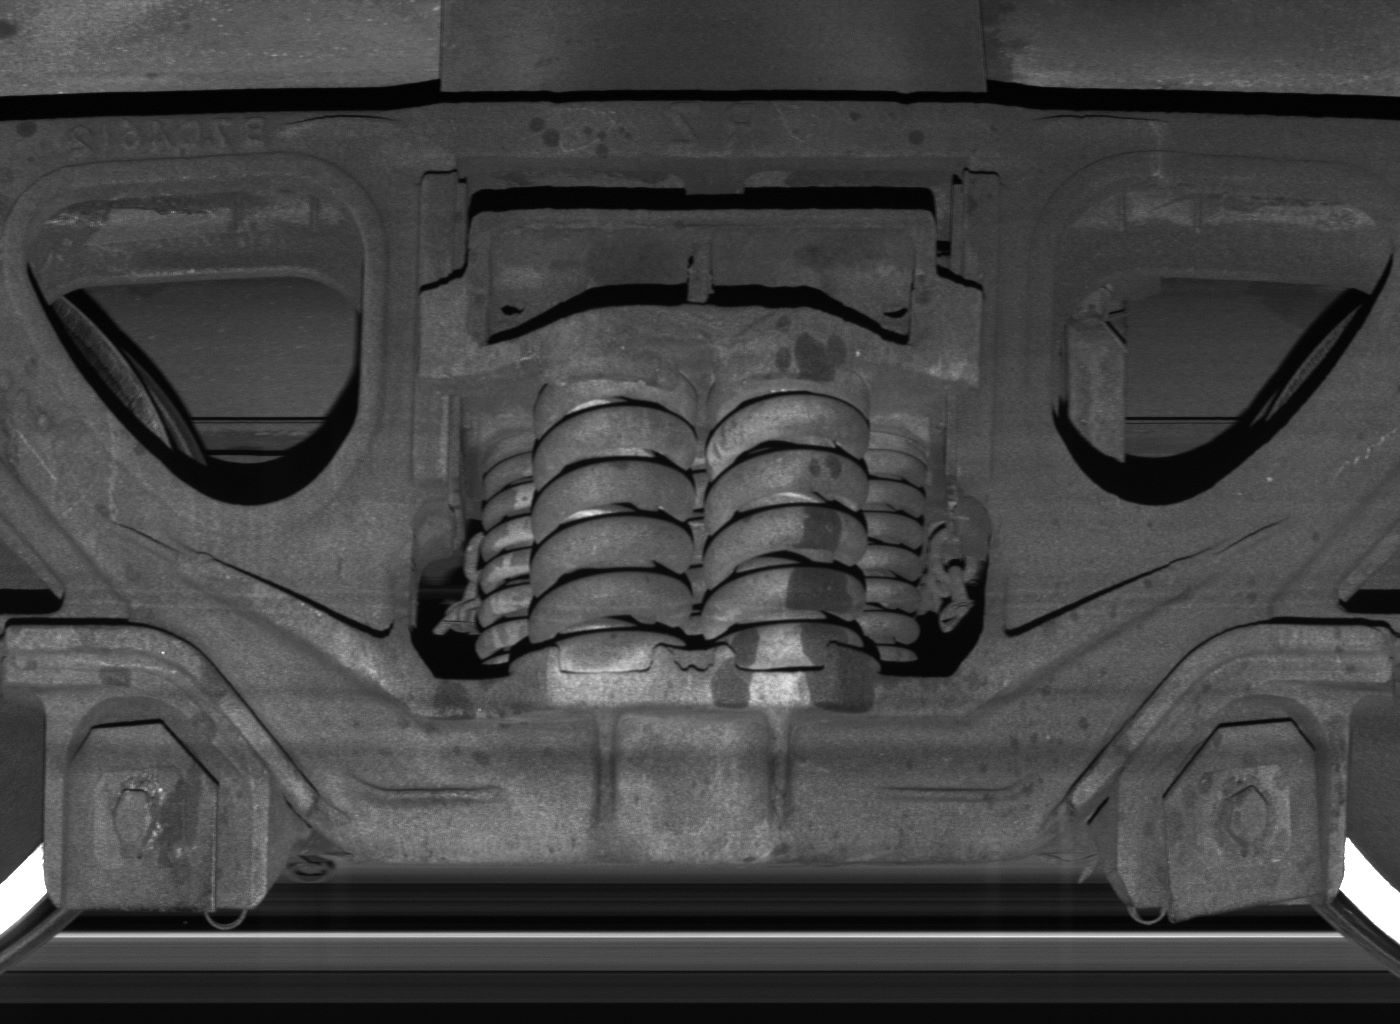locking plate: (1118, 694, 1347, 920)
normal: (43, 698, 268, 911)
